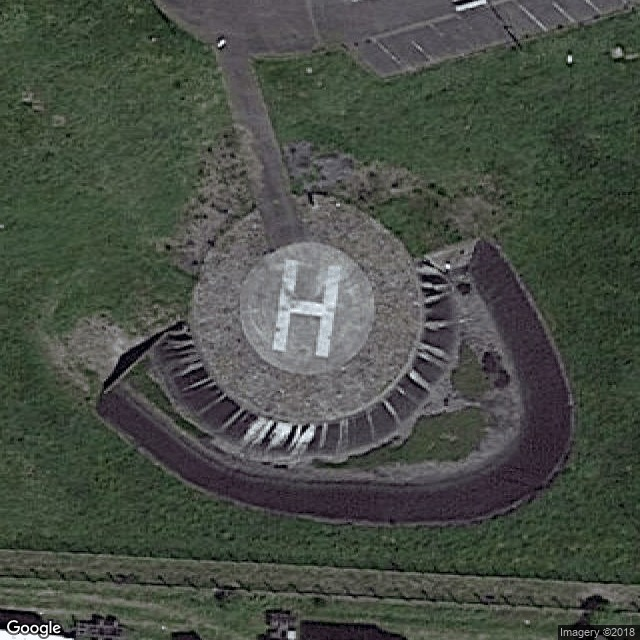heliport: (260, 248, 346, 362)
